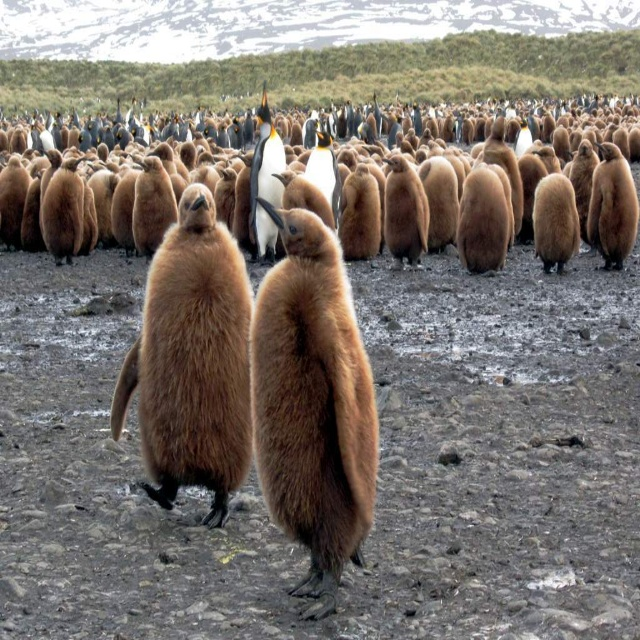Penguin: (246, 198, 381, 620), (113, 188, 258, 547), (246, 79, 291, 254), (584, 139, 638, 277), (39, 153, 89, 268), (458, 165, 510, 275), (484, 113, 526, 243), (529, 173, 580, 279), (382, 149, 426, 268), (131, 153, 180, 259), (271, 170, 340, 243), (339, 162, 381, 259), (428, 92, 639, 111), (419, 149, 456, 252), (213, 165, 254, 257), (297, 130, 341, 215), (0, 152, 38, 243), (518, 147, 547, 248), (569, 133, 599, 226), (233, 147, 256, 257), (113, 169, 142, 256), (89, 173, 119, 251), (81, 181, 101, 256), (41, 142, 61, 202), (532, 143, 562, 172), (372, 92, 388, 140), (303, 117, 321, 158), (408, 102, 426, 140), (8, 127, 30, 157), (39, 122, 59, 155), (387, 114, 406, 148), (518, 119, 535, 155), (216, 119, 233, 149), (227, 116, 244, 146), (539, 110, 552, 149), (442, 117, 458, 148), (275, 112, 289, 147), (159, 113, 177, 139), (461, 118, 476, 149), (351, 104, 364, 139), (326, 109, 340, 140), (59, 119, 73, 149), (404, 128, 421, 152), (366, 109, 379, 140), (339, 106, 351, 139), (68, 126, 84, 150), (24, 127, 39, 152), (202, 123, 219, 145), (402, 114, 415, 142), (427, 114, 440, 142), (124, 104, 138, 129), (0, 127, 12, 155), (139, 121, 154, 143), (83, 130, 102, 147), (347, 101, 357, 133), (477, 111, 488, 140), (506, 118, 518, 142), (118, 122, 131, 142), (361, 114, 369, 143), (176, 127, 193, 140), (103, 126, 115, 143), (193, 104, 202, 126)
